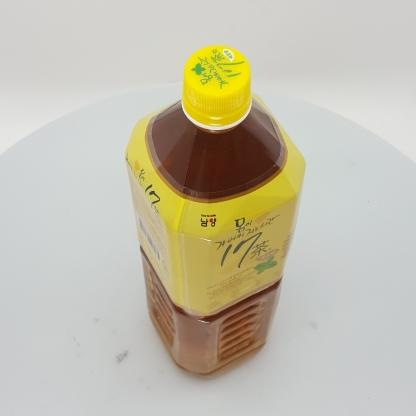--17----1-5L: (125, 45, 306, 378)
